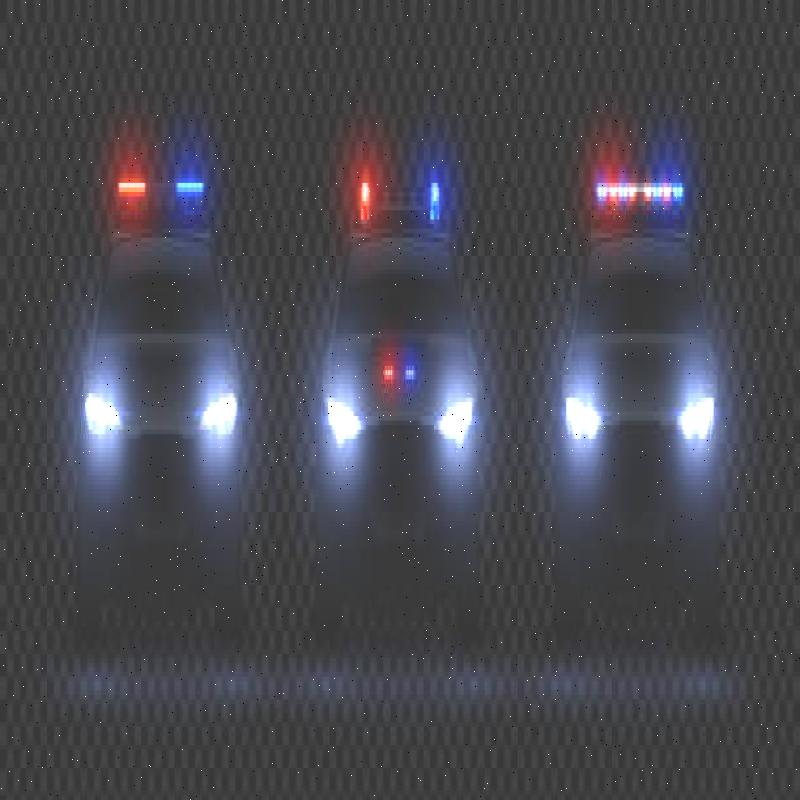AmbulanceSiren: (340, 135, 457, 268), (107, 138, 213, 268), (581, 149, 692, 245)
